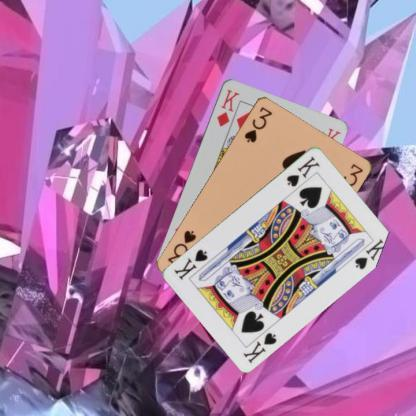3s: (242, 103, 274, 144)
Kd: (213, 86, 240, 128)
Ks: (284, 153, 322, 188), (240, 330, 278, 364)
